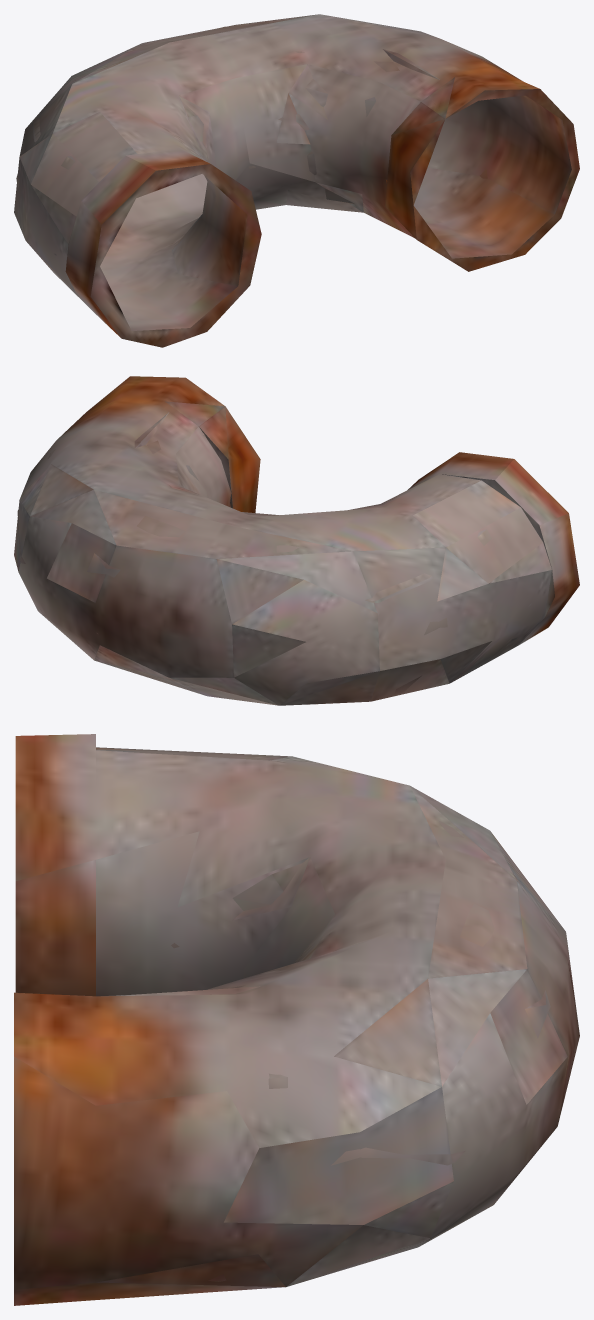
File: small_steel_pipe_11.glb
3 views of the same model, one above another, from view 1: azimuth 30°, elevation 25°; view 2: azimuth 150°, elevation 25°; view 3: azimuth 270°, elevation 25° (orthographic). The views are drawn at different scales.
Parts seen in each view (by area): view 1: small_steel_pipe_11; view 2: small_steel_pipe_11; view 3: small_steel_pipe_11.
Part boxes in pixels (x1,y1,x2,y2): small_steel_pipe_11: (14,14,579,347); small_steel_pipe_11: (14,376,579,705); small_steel_pipe_11: (14,734,579,1305).
Size of what is drawn, in the model's own units: 0.0613 by 0.0215 by 0.0381.
1 material, 1 textured.
